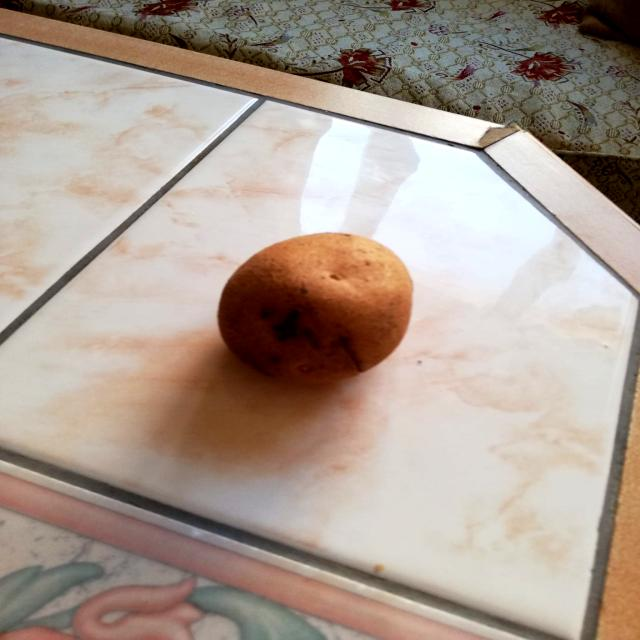potato: (213, 220, 422, 390)
